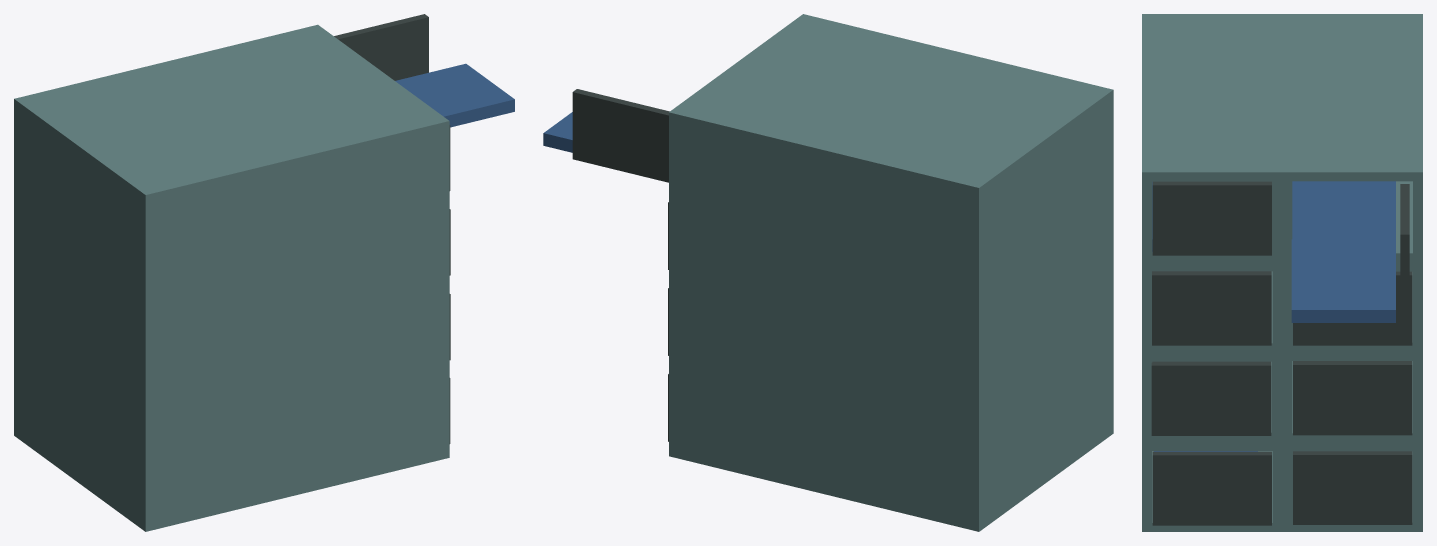
File: Morgue Cabinet_Reverse.fbx
3 views of the same model, side by side, from view 1: azimuth 30°, elevation 25°; view 2: azimuth 150°, elevation 25°; view 3: azimuth 270°, elevation 25° (orthographic). The views are drawn at different scales.
Parts seen in each view (by area): view 1: Body, SlidingPart.001, Door.001; view 2: Body, Door.001, SlidingPart.001; view 3: Body, SlidingPart.001, Door.004, Door.003, Door1, Door, Door.005, Door.006, Door.002, Door.001.
Boxes of the visible parts, box(x1,y1,x2,y2) form: Body: box(14, 24, 449, 531); SlidingPart.001: box(395, 63, 514, 127); Door.001: box(334, 14, 428, 80); Body: box(669, 14, 1113, 531); Door.001: box(572, 89, 669, 182); SlidingPart.001: box(543, 112, 572, 152); Body: box(1142, 14, 1422, 531); SlidingPart.001: box(1291, 181, 1395, 322); Door.004: box(1151, 361, 1271, 435); Door.003: box(1152, 271, 1271, 345); Door1: box(1152, 451, 1271, 525); Door: box(1152, 181, 1271, 255); Door.005: box(1293, 361, 1412, 435); Door.006: box(1293, 451, 1412, 524); Door.002: box(1293, 271, 1412, 345); Door.001: box(1400, 184, 1409, 304).
Size of the model in its own units: 898 by 658 by 466.
